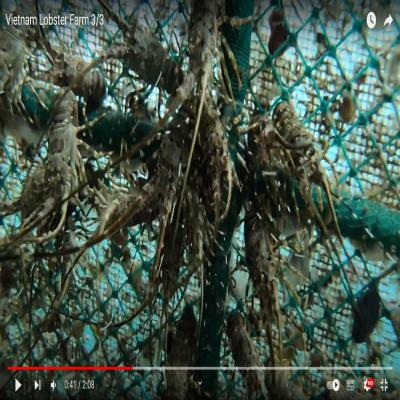lobster: (40, 93, 84, 218), (270, 100, 324, 194), (243, 213, 286, 325), (120, 19, 180, 95), (184, 2, 232, 93), (194, 106, 237, 200), (48, 41, 102, 98)
